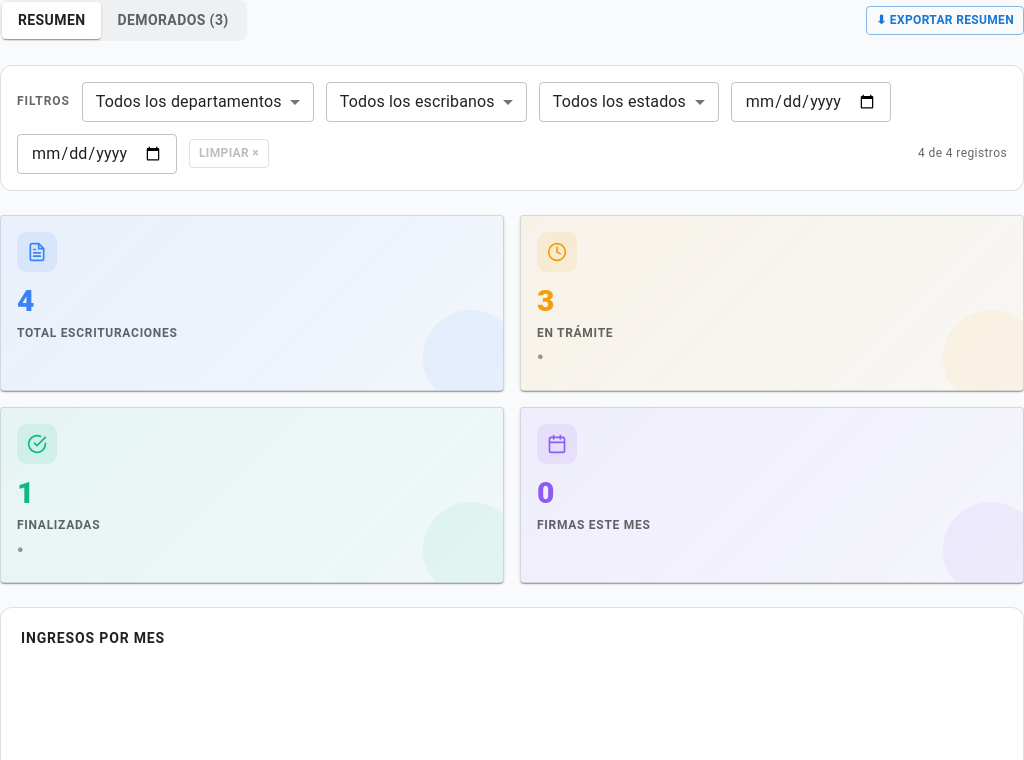
DashboardTab demorados (P5b) › opens the detail SlidePanel on row click (DemoradoDetailPanel preserved)
Click the button "Demorados (3)": (173, 20) x1=102 y1=2 x2=245 y2=38
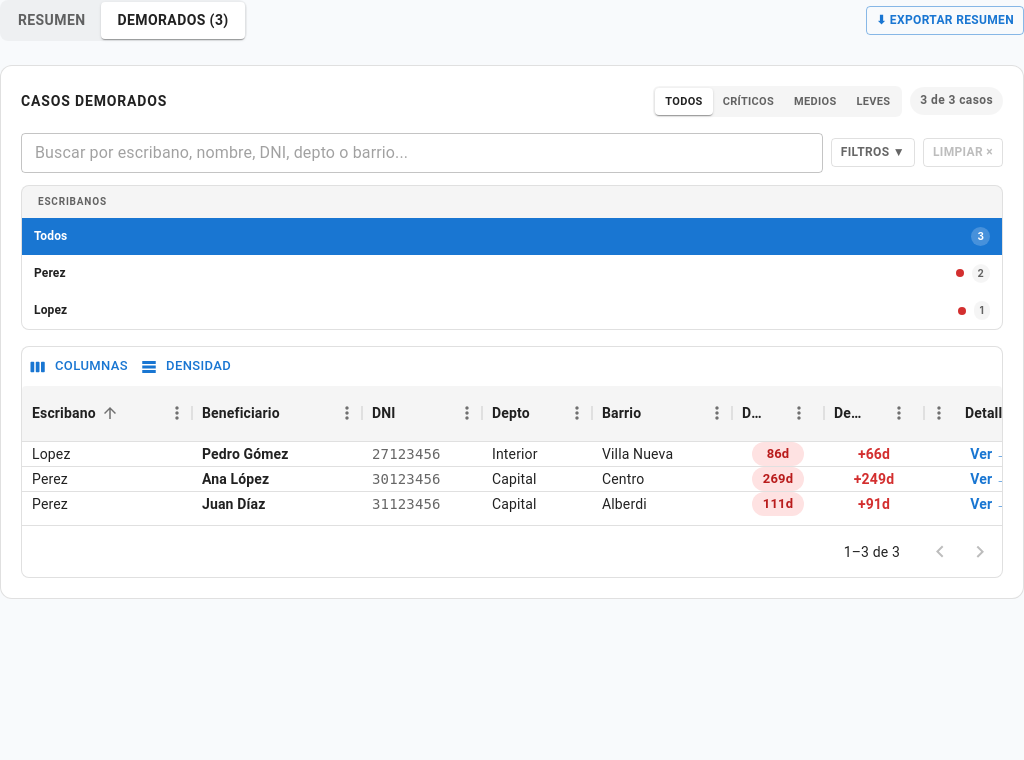
Expected: the row "Perez Ana López 30123456 Capital Centro 269d +249d Ver →" is shown, x1=22 y1=467 x2=1002 y2=492
Click the row "Perez Ana López 30123456 Capital Centro 269d +249d Ver →": (521, 480) x1=22 y1=467 x2=1020 y2=492
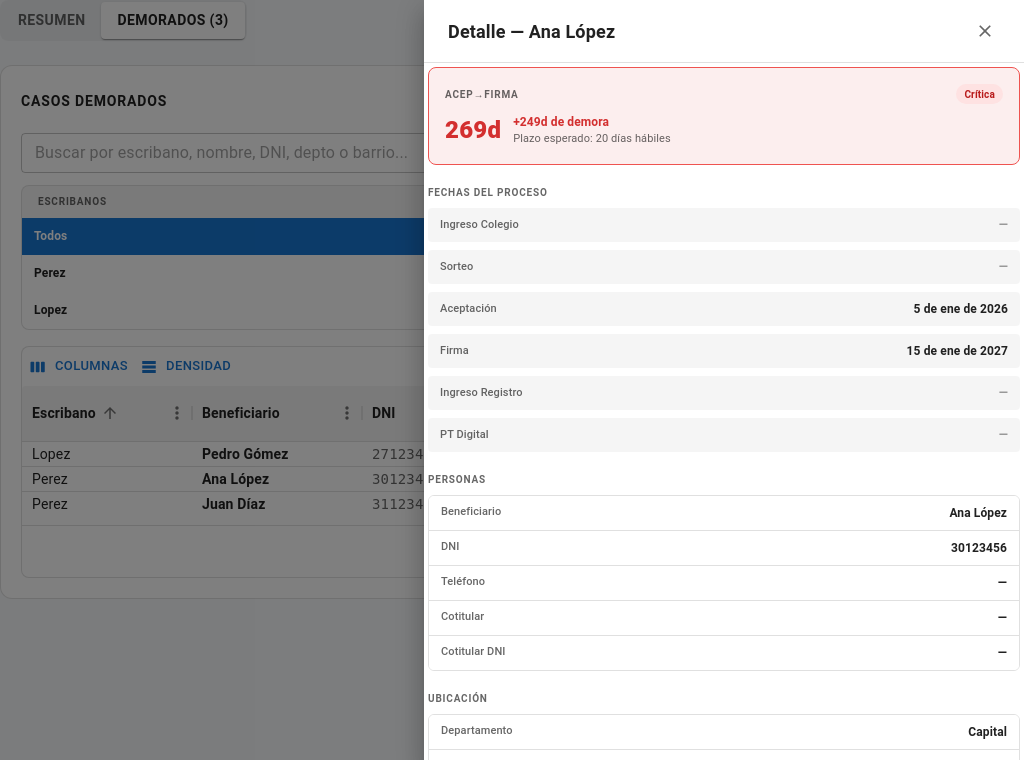
Expected: the text "Detalle — Ana López" is shown, x1=448 y1=18 x2=615 y2=44
Expected: the text "Acep→Firma" is shown, x1=445 y1=86 x2=519 y2=102
Expected: the text "Plazo esperado: 20 días hábiles" is shown, x1=513 y1=131 x2=671 y2=147
